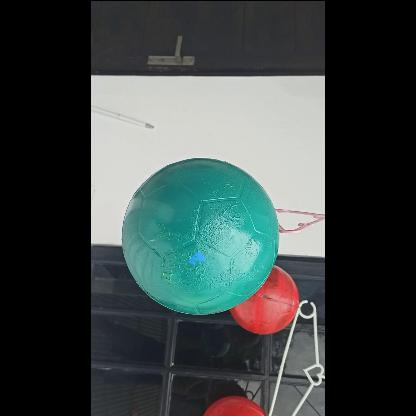green_ball: (122, 158, 280, 314)
